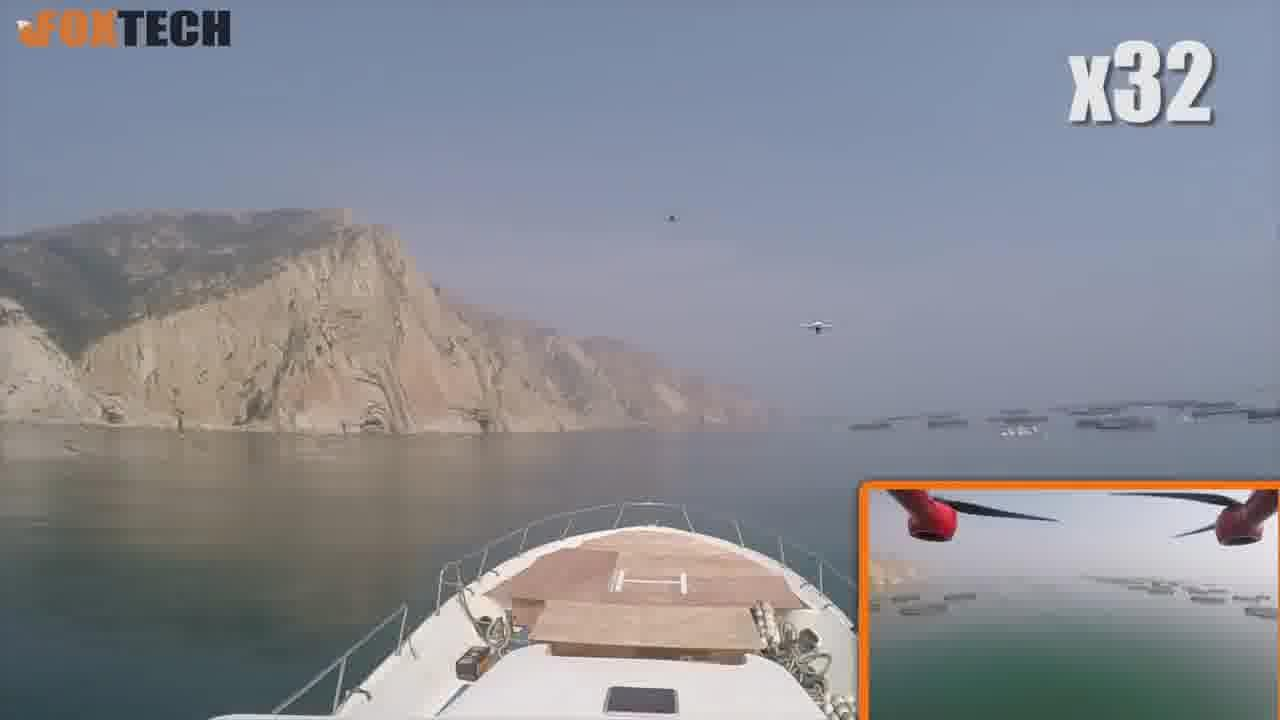drone: (793, 308, 838, 339), (651, 209, 691, 231)
